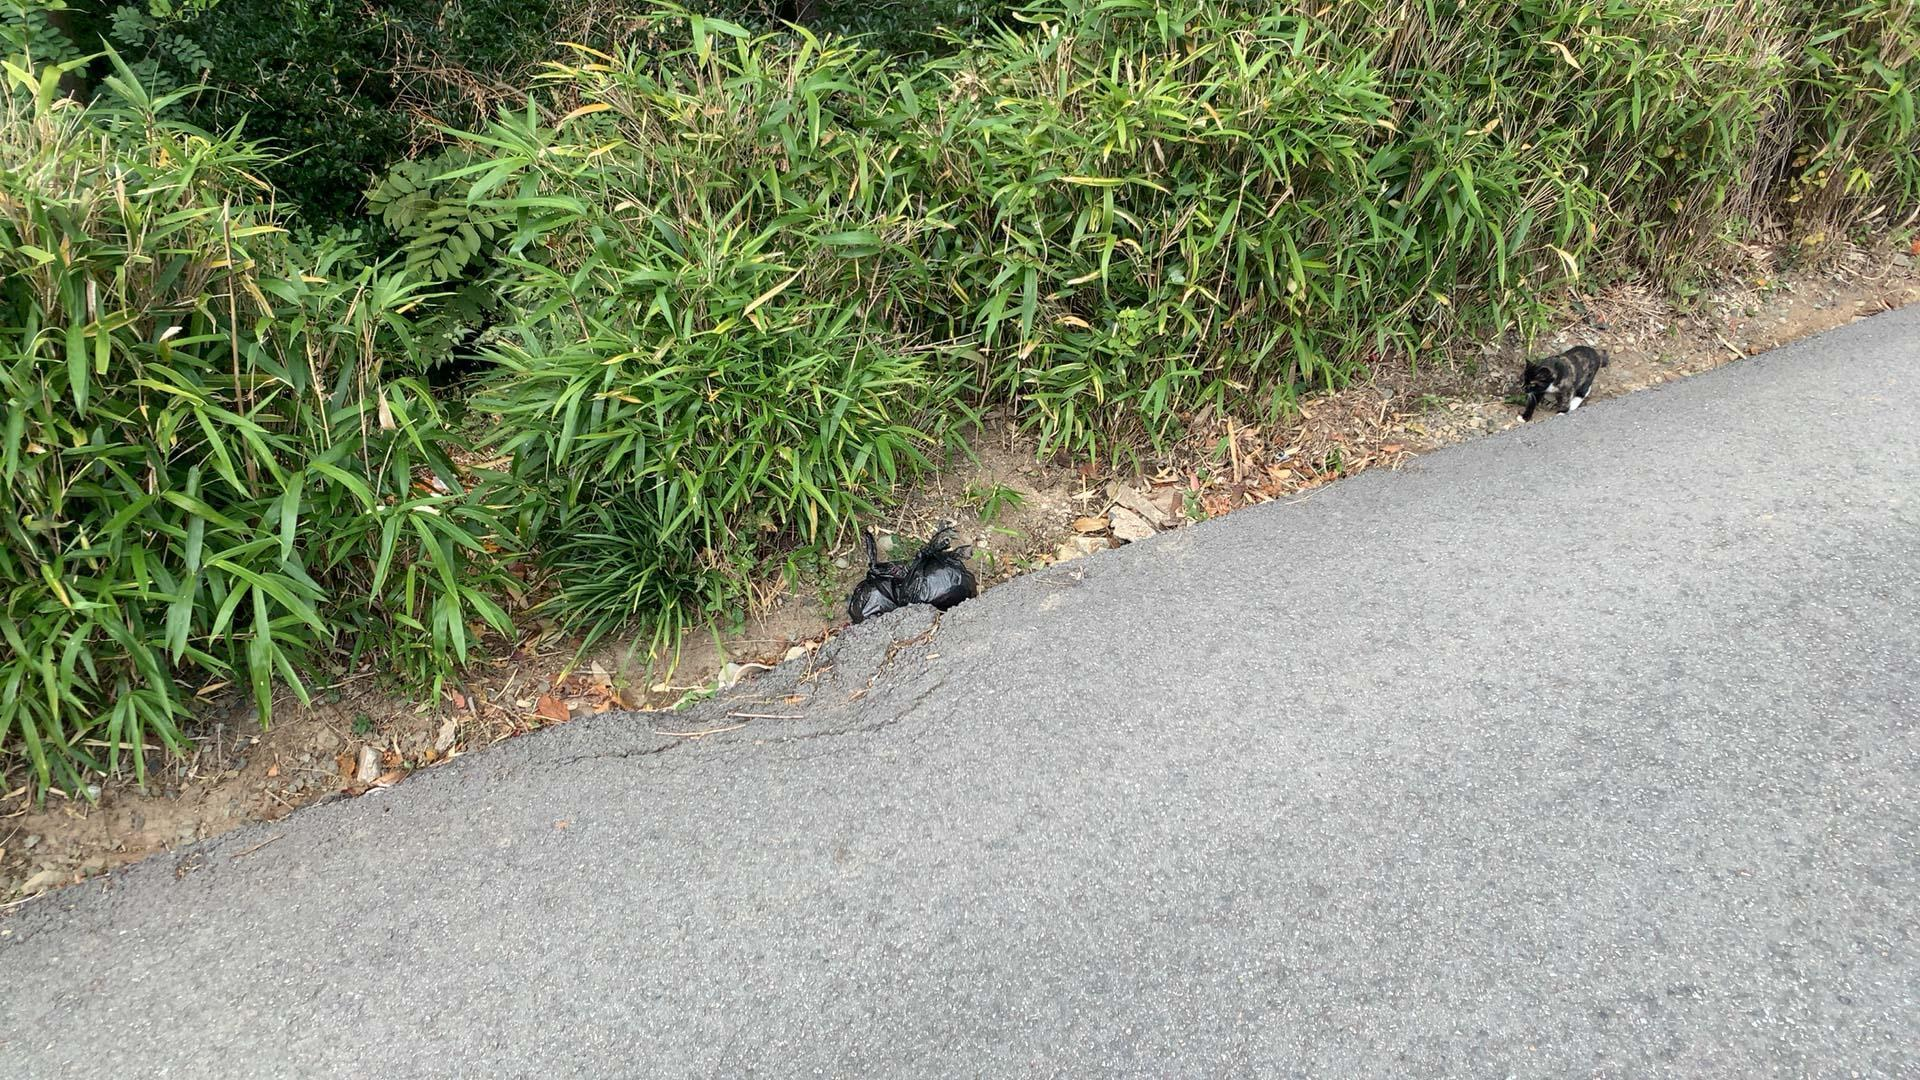black_bag: (902, 527, 982, 611)
white_bag: (844, 527, 916, 618)
